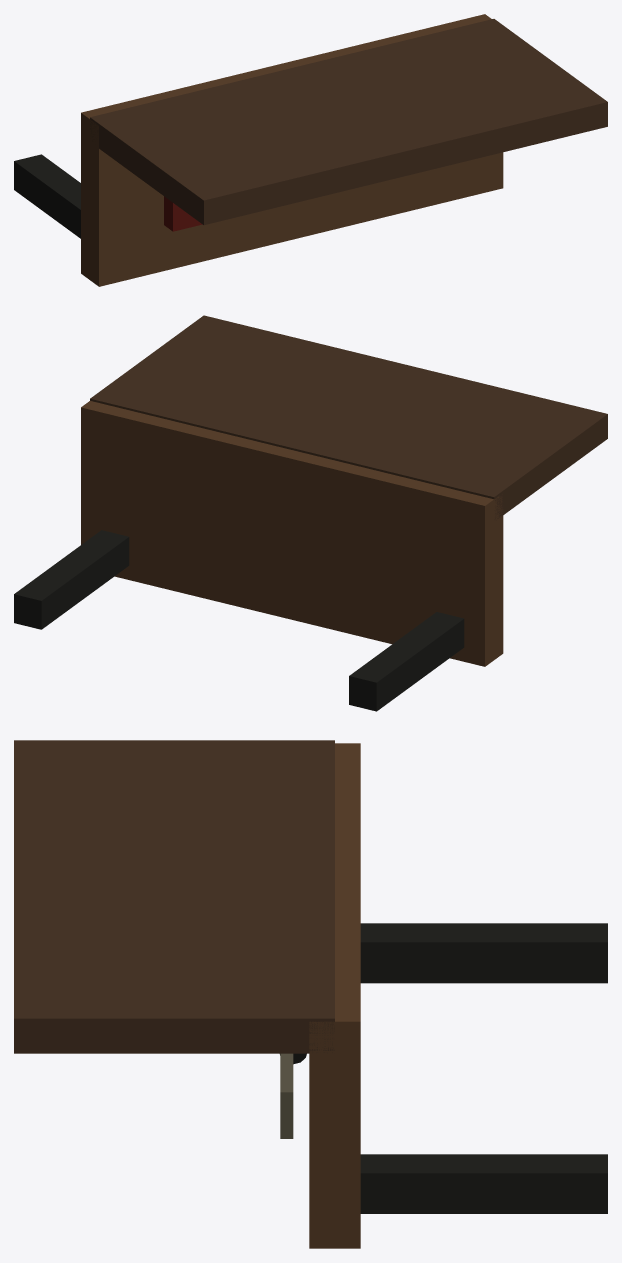
Rendered from shelter_workbench_detailed.obj.
3 renders of one model, top to bottom at view 1: azimuth 30°, elevation 25°; view 2: azimuth 150°, elevation 25°; view 3: azimuth 270°, elevation 25°, orthographic. The views are drawn at different scales.
Visible parts, largest first — view 1: shelter_workbench_detailed; view 2: shelter_workbench_detailed; view 3: shelter_workbench_detailed.
Part boxes in pixels (bbox=[...]): shelter_workbench_detailed: bbox=[14, 14, 607, 286]; shelter_workbench_detailed: bbox=[14, 315, 607, 711]; shelter_workbench_detailed: bbox=[14, 740, 607, 1248].
Bounding box in the file's own units: 2.05 × 0.79 × 1.85.
